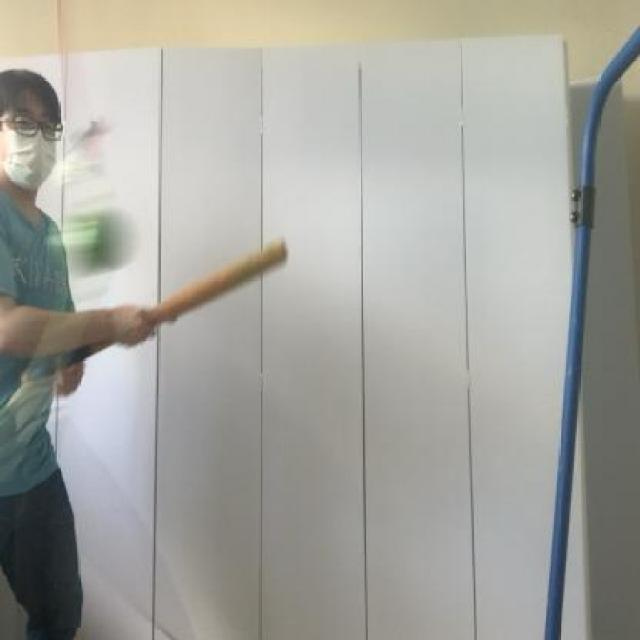baseball: (54, 198, 140, 282)
